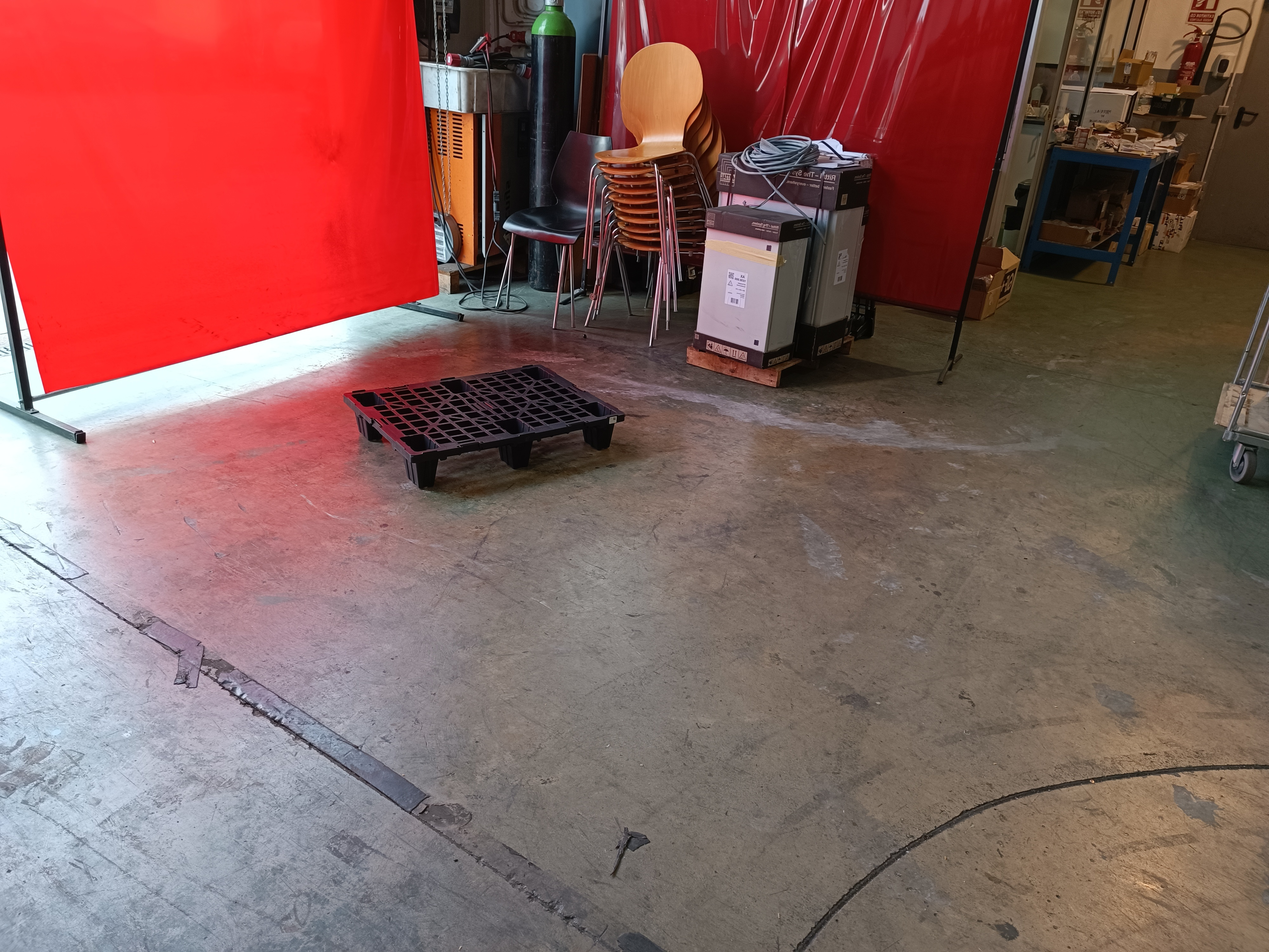block: (500, 435, 542, 476), (411, 447, 445, 494), (582, 417, 619, 454)
front: (412, 411, 622, 494)
hole pallet: (431, 444, 515, 489), (530, 425, 600, 475)
